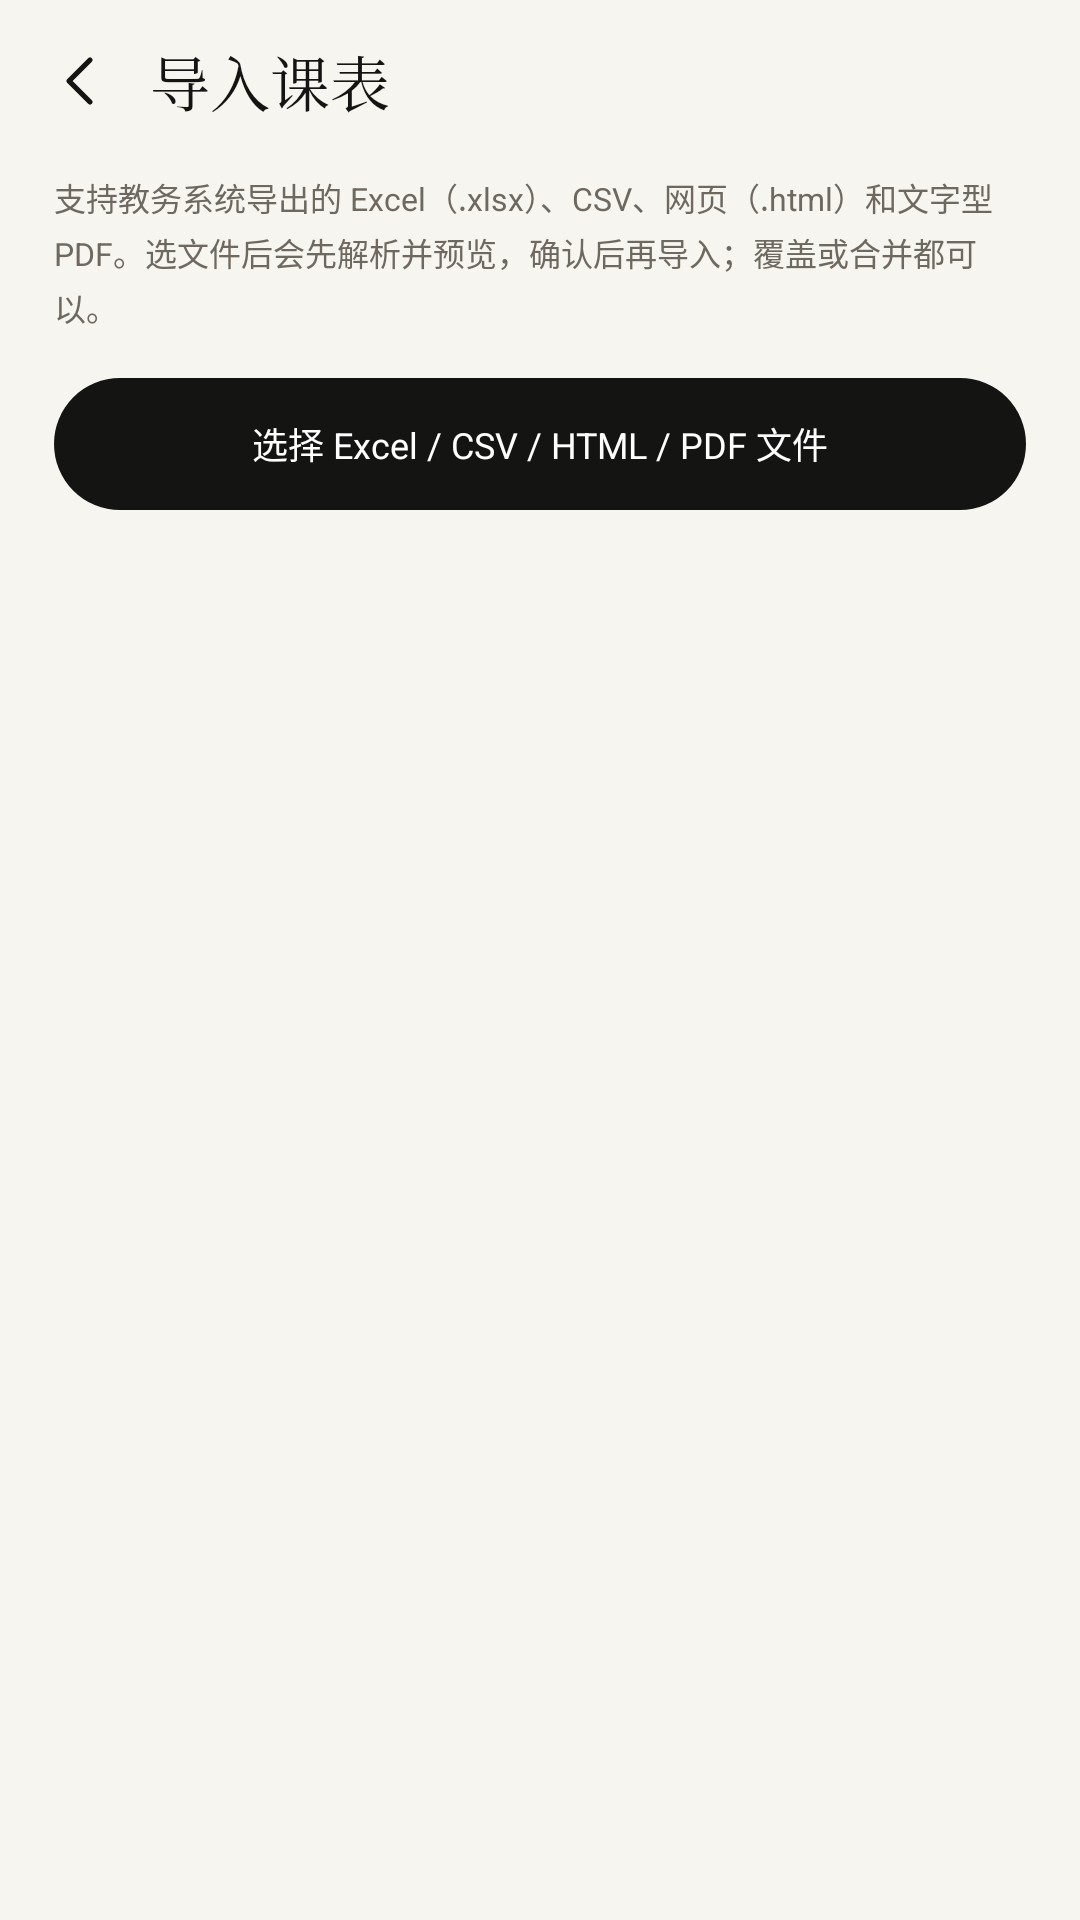

Where icons sit on this 1080px×1920px app screen, as (x1, y1, x2, y2):
返回: (66, 57, 93, 105)
